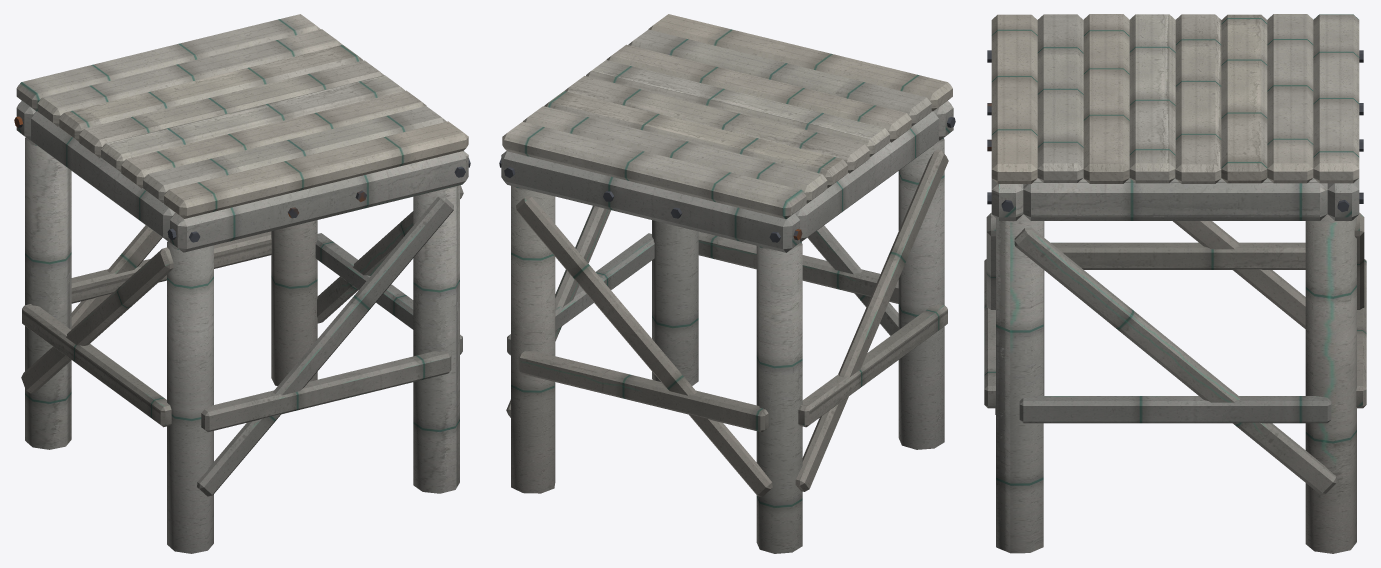
Rendered from kazik_temel.glb.
3 views of the same model, side by side, from view 1: azimuth 30°, elevation 25°; view 2: azimuth 150°, elevation 25°; view 3: azimuth 270°, elevation 25° (orthographic). The views are drawn at different scales.
Parts seen in each view (by area): view 1: kazik_temel; view 2: kazik_temel; view 3: kazik_temel.
Boxes of the visible parts, left/top/right/bottom form: kazik_temel: left=14, top=14, right=470, bottom=553; kazik_temel: left=499, top=14, right=955, bottom=553; kazik_temel: left=984, top=14, right=1366, bottom=553.
Bounding box in the file's own units: 3.12 × 3.5 × 3.12.
1 material, 1 textured.
